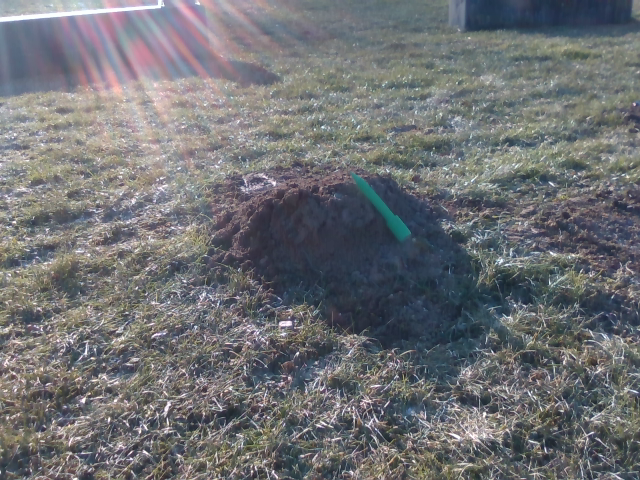Probe: (346, 168, 412, 242)
